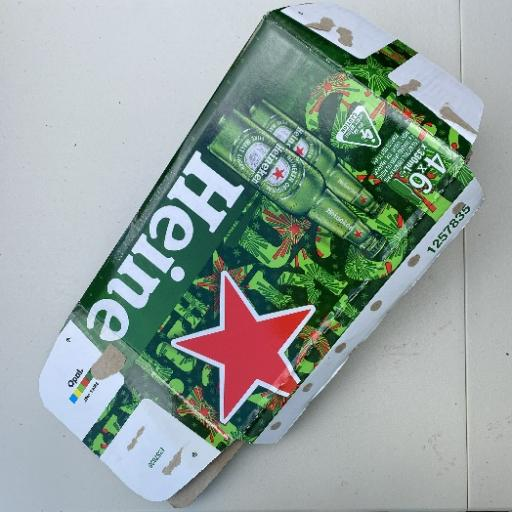Cardboard: (36, 2, 486, 506), (169, 269, 317, 426)
